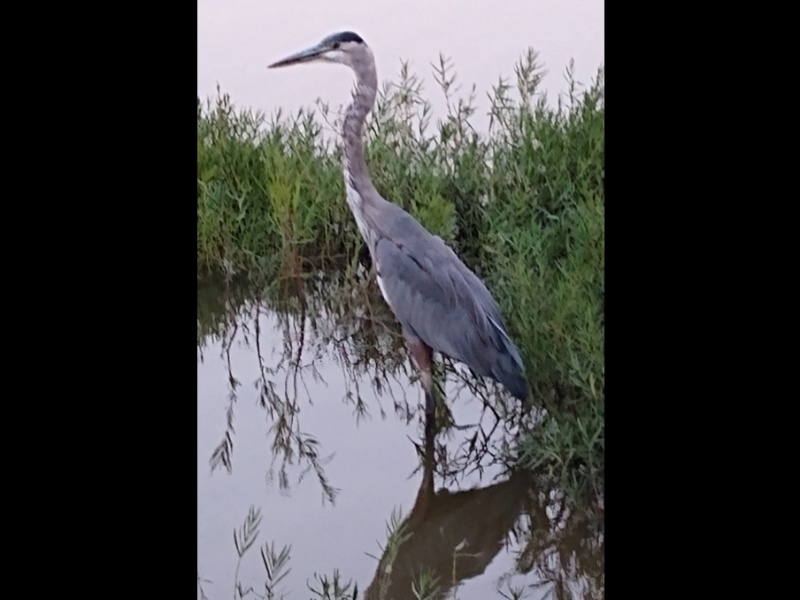heron: (267, 26, 532, 461)
